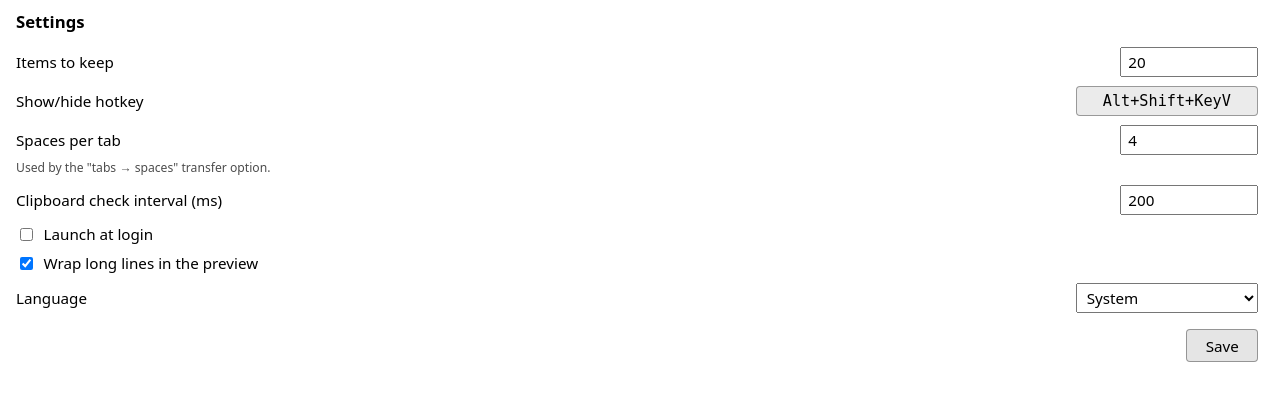
Test: SettingsWindow — saving › shows a hotkey conflict on the hotkey field and keeps the other edits (9.4)
Check: the number field labelled "Items to keep" is shown, box [1120,47,1258,77]
Replace the text in the number field labelled "Spaces per tab" with "8" at (1189, 140), box [1120,125,1258,155]
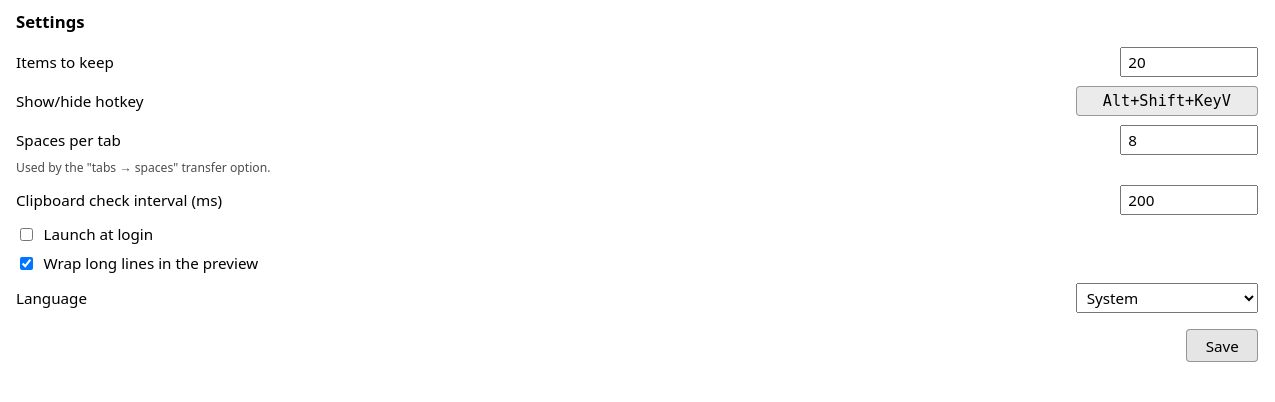
Click the button "Save" at (1222, 346), box [1186,329,1258,362]
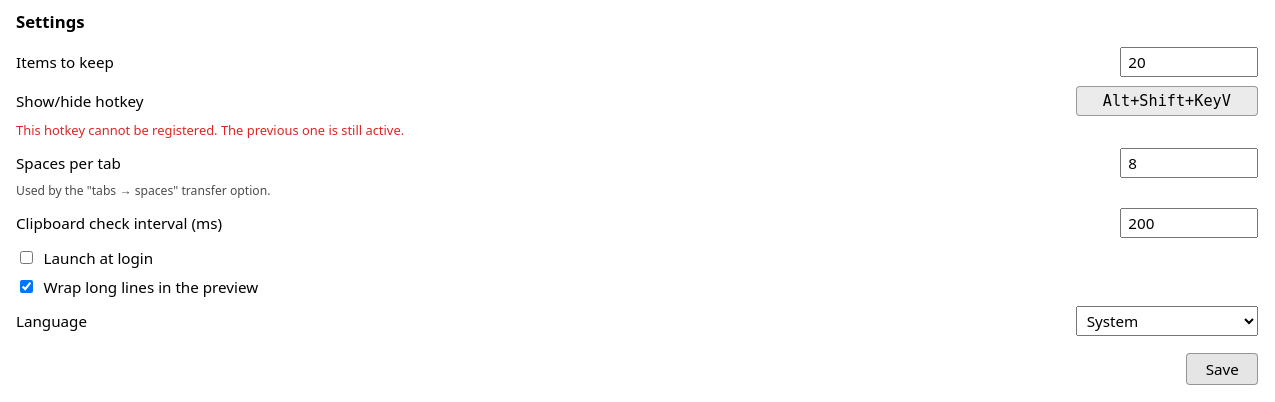
Check: the text with test id "error-hotkey" reads "This hotkey cannot be registered. The previous one is still active.", box [16,121,404,139]
